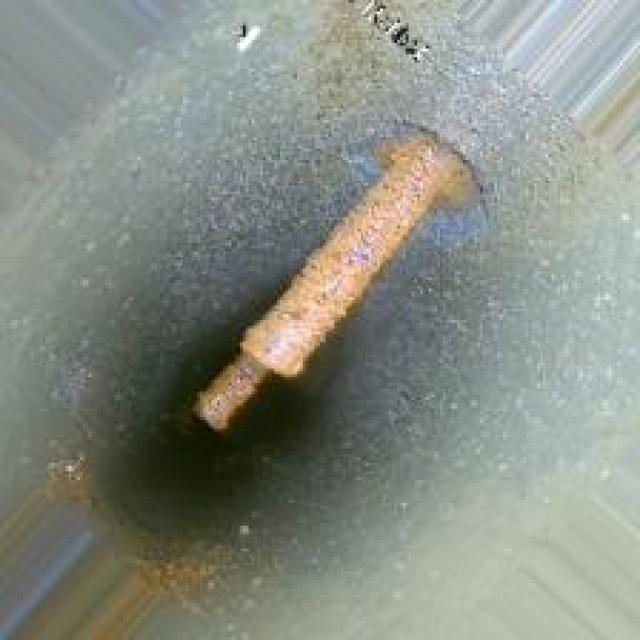ferrule: (177, 117, 492, 443)
